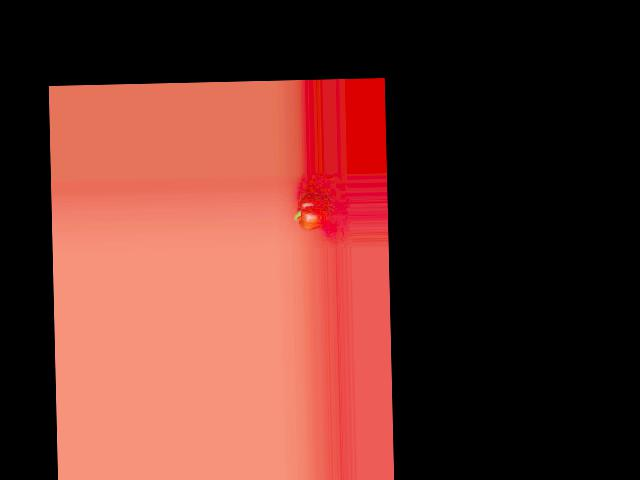bell_pepper: (292, 191, 334, 228)
